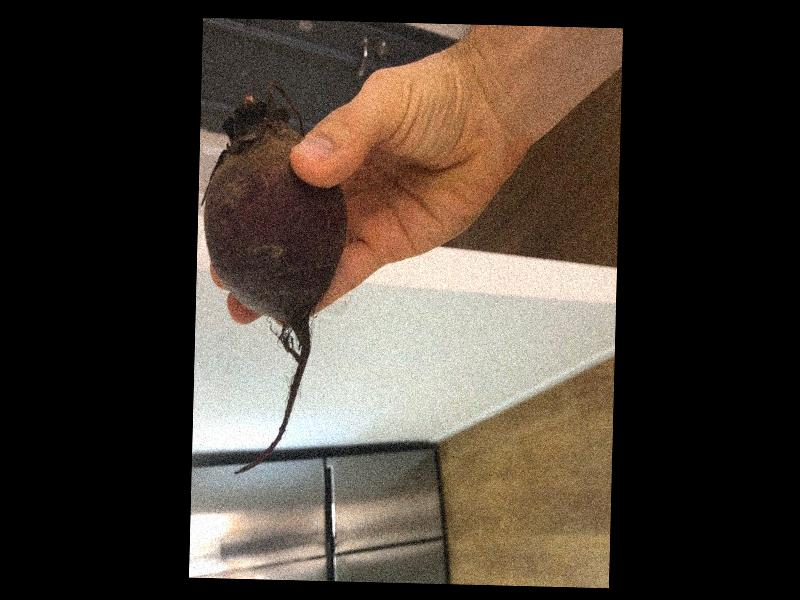Beet: (194, 80, 347, 475)
